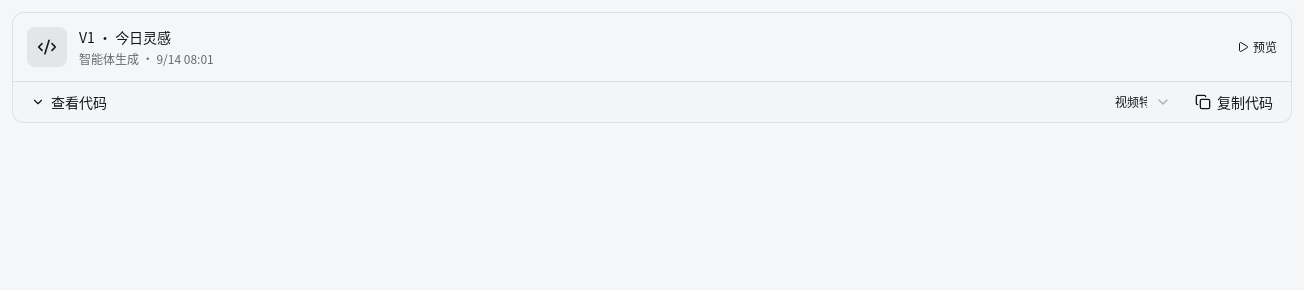
Test case: 卸载版本卡片中止未完成的诊断
What coordinates should you click on to do the following:
click the button with aria-label "展开 V1 代码"
I would click on:
 (69, 102)
Its box is [21,86,117,118].
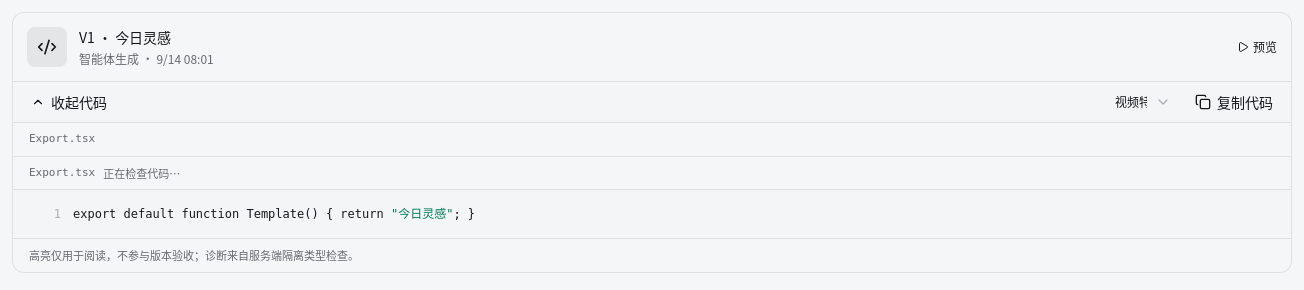
Expected: the text "正在检查代码…" is shown, [103,164,180,181]
